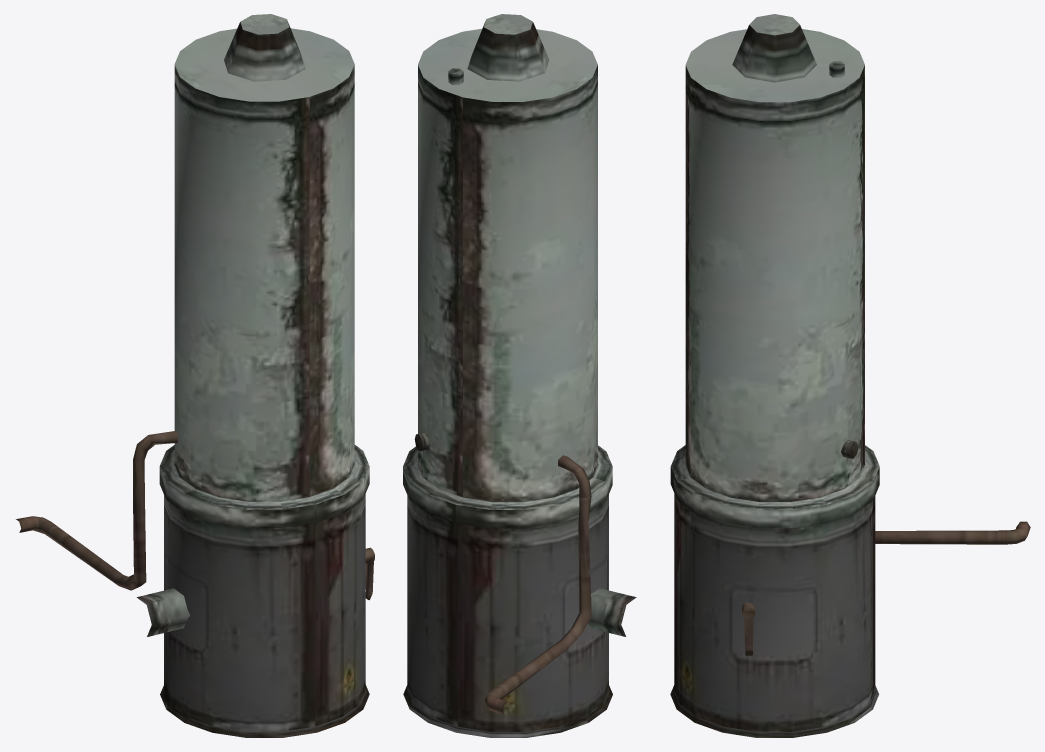
Rendered from furnitureboiler001a.glb.
The picture shows the model from 3 angles, left to right: view 1: azimuth 30°, elevation 25°; view 2: azimuth 150°, elevation 25°; view 3: azimuth 270°, elevation 25°; orthographic projection.
Visible parts, largest first — view 1: 0_FurnitureBoiler001a; view 2: 0_FurnitureBoiler001a; view 3: 0_FurnitureBoiler001a.
Boxes of the visible parts, left/top/right/bottom form: 0_FurnitureBoiler001a: left=16, top=14, right=374, bottom=737; 0_FurnitureBoiler001a: left=403, top=14, right=636, bottom=737; 0_FurnitureBoiler001a: left=670, top=14, right=1030, bottom=737.
Bounding box in the file's own units: 0.7734 × 2.28 × 1.11.
1 material, 1 textured.
